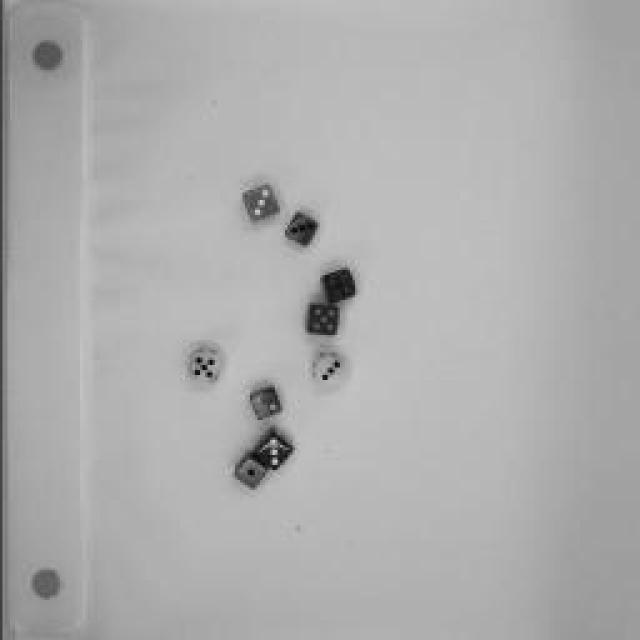dice_1: (230, 450, 270, 495)
dice_2: (245, 378, 285, 422)
dice_3: (248, 427, 298, 475), (304, 349, 354, 391), (240, 181, 278, 224), (282, 210, 320, 252)
dice_4: (321, 262, 354, 308)
dice_5: (299, 298, 341, 340), (185, 349, 223, 386)
